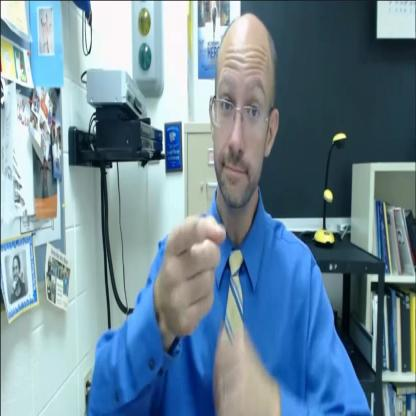HowAreYou: (123, 11, 325, 416)
